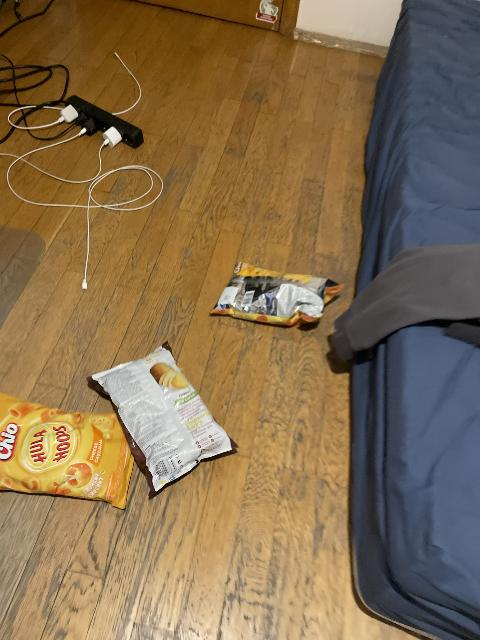Chio Cascaval 125g: (208, 261, 341, 326)
Chio Hula Hoops Cheese 70g: (0, 388, 135, 507)
Lays Beef Grilled Ribs 125g: (93, 339, 244, 491)
